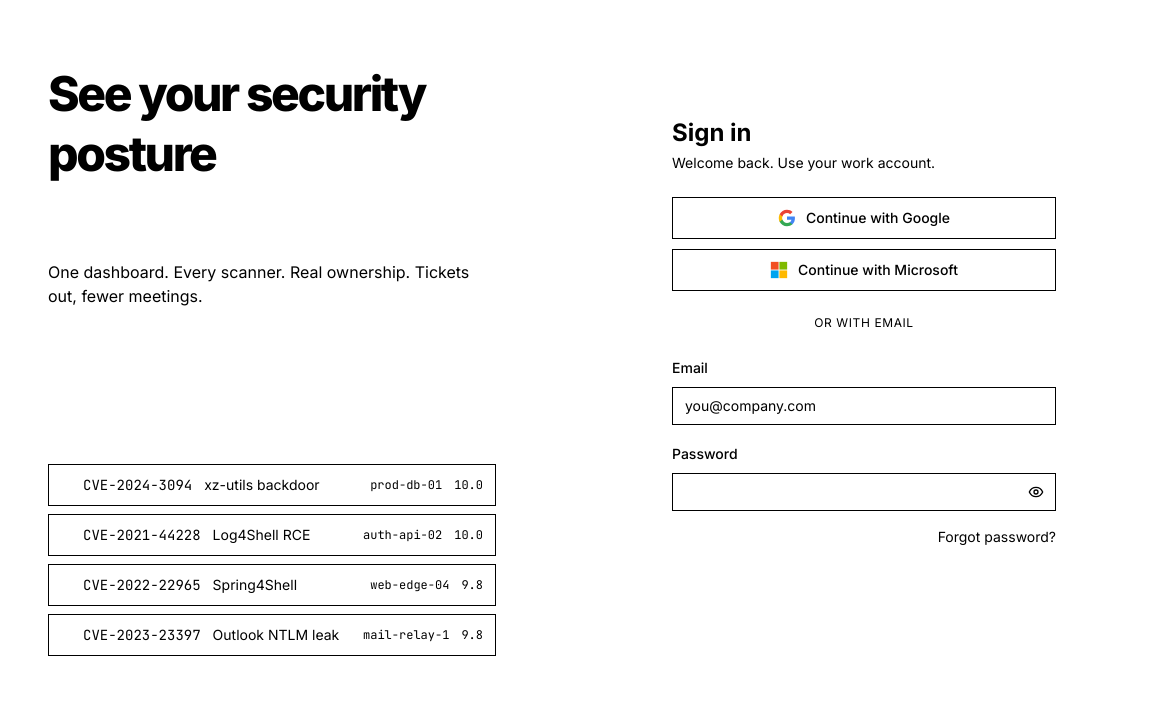
Test case: <LoginPage> — mode switching + SSO visibility (UX-01-02, UX-01-04) › clicking "Forgot password?" enters forgot mode and HIDES SSO row + divider (UX-01-04)
This screenshot has width=1152, height=720.
What coordinates should you click on to do the following:
click the button "Forgot password?"
I would click on:
 (997, 537)
Its box is [938, 527, 1056, 547].
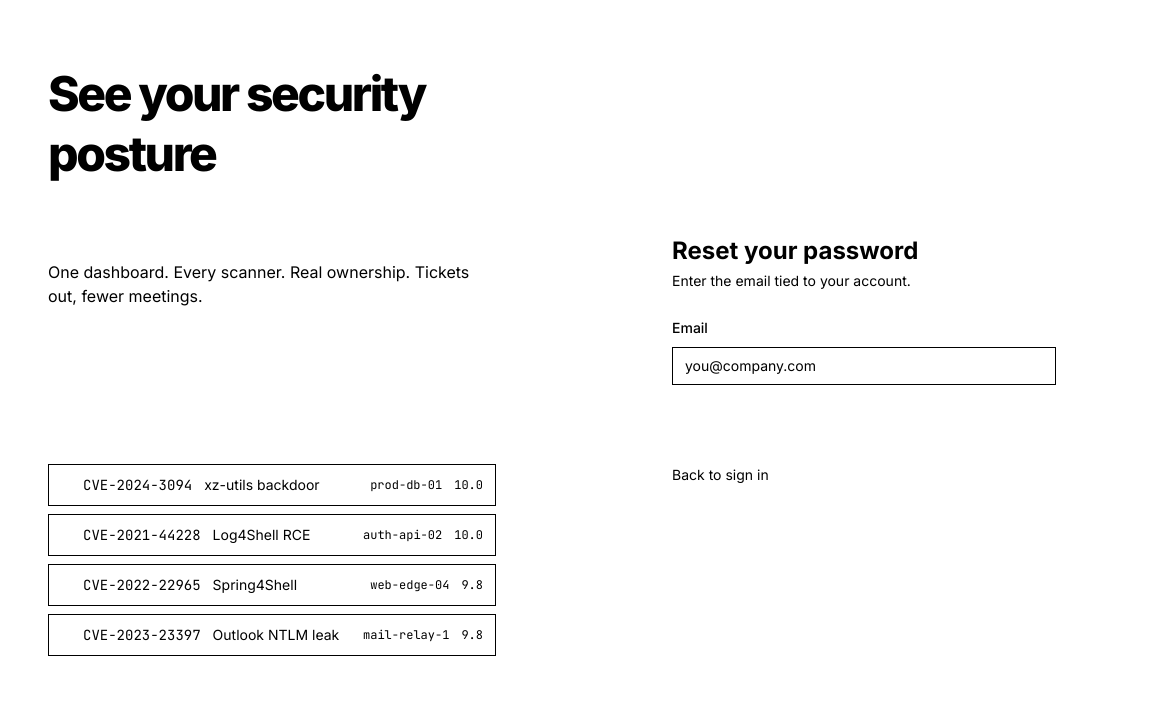
Expected: the button "Continue with Google" is gone
Expected: the button "Continue with Microsoft" is gone
Expected: the text "or with email" is gone
